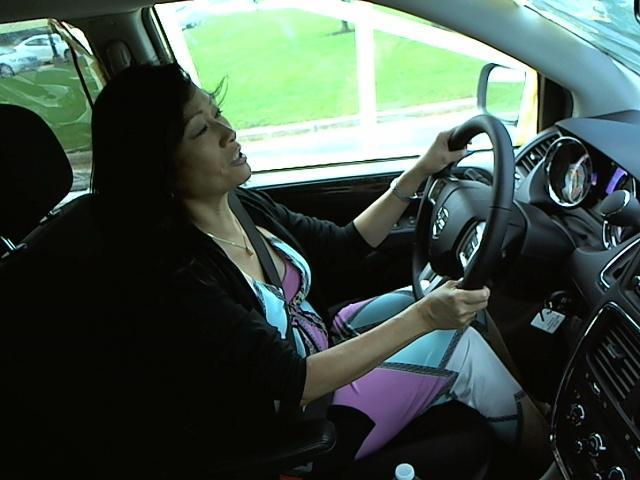c0 - Safe Driving: (83, 52, 518, 387)
